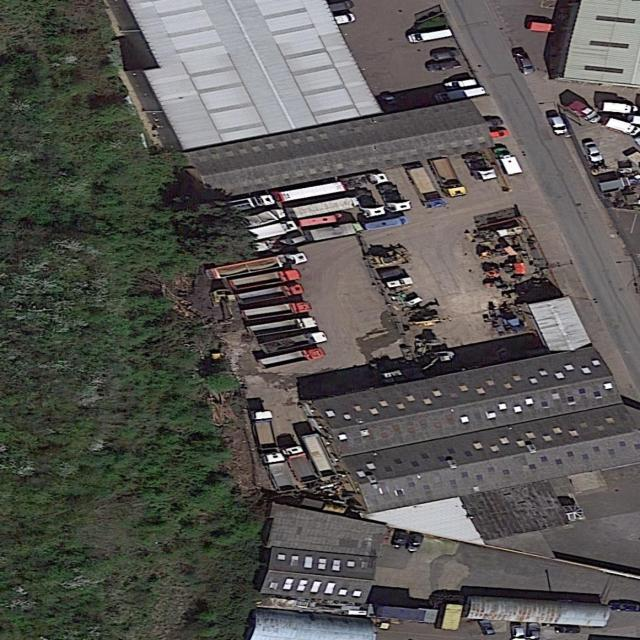large-vehicle: (202, 250, 310, 281), (404, 164, 449, 212), (257, 329, 330, 357), (284, 195, 362, 221), (256, 345, 328, 372), (271, 180, 348, 205), (234, 281, 307, 307), (229, 267, 304, 292), (298, 432, 337, 479), (429, 155, 469, 200), (239, 300, 314, 323), (245, 316, 320, 339), (261, 451, 300, 495), (282, 445, 322, 486), (240, 219, 302, 244), (303, 220, 366, 244), (217, 192, 280, 216), (374, 181, 416, 215), (249, 409, 282, 451), (460, 150, 500, 183), (352, 186, 390, 218), (563, 98, 605, 125), (490, 145, 524, 178), (600, 116, 640, 137), (406, 27, 454, 44), (599, 101, 640, 116), (546, 115, 569, 136)
small-vehicle: (434, 85, 488, 104), (363, 215, 411, 231), (513, 51, 538, 76), (424, 60, 462, 73), (582, 141, 604, 162), (444, 78, 479, 91), (325, 13, 357, 27), (430, 48, 462, 61), (474, 117, 505, 130), (390, 531, 411, 550), (406, 534, 426, 553), (480, 129, 508, 140), (477, 620, 497, 635), (554, 625, 581, 633)
